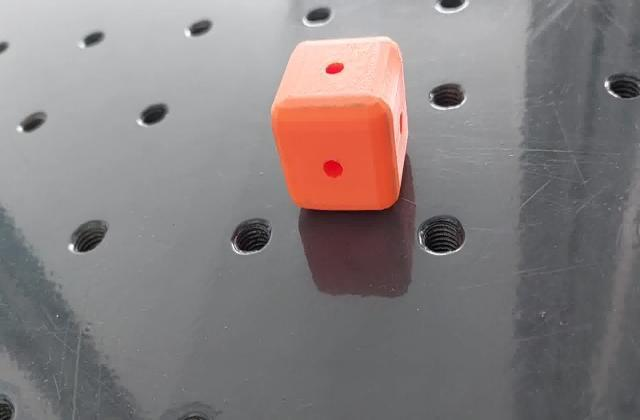cube: (267, 34, 411, 215)
